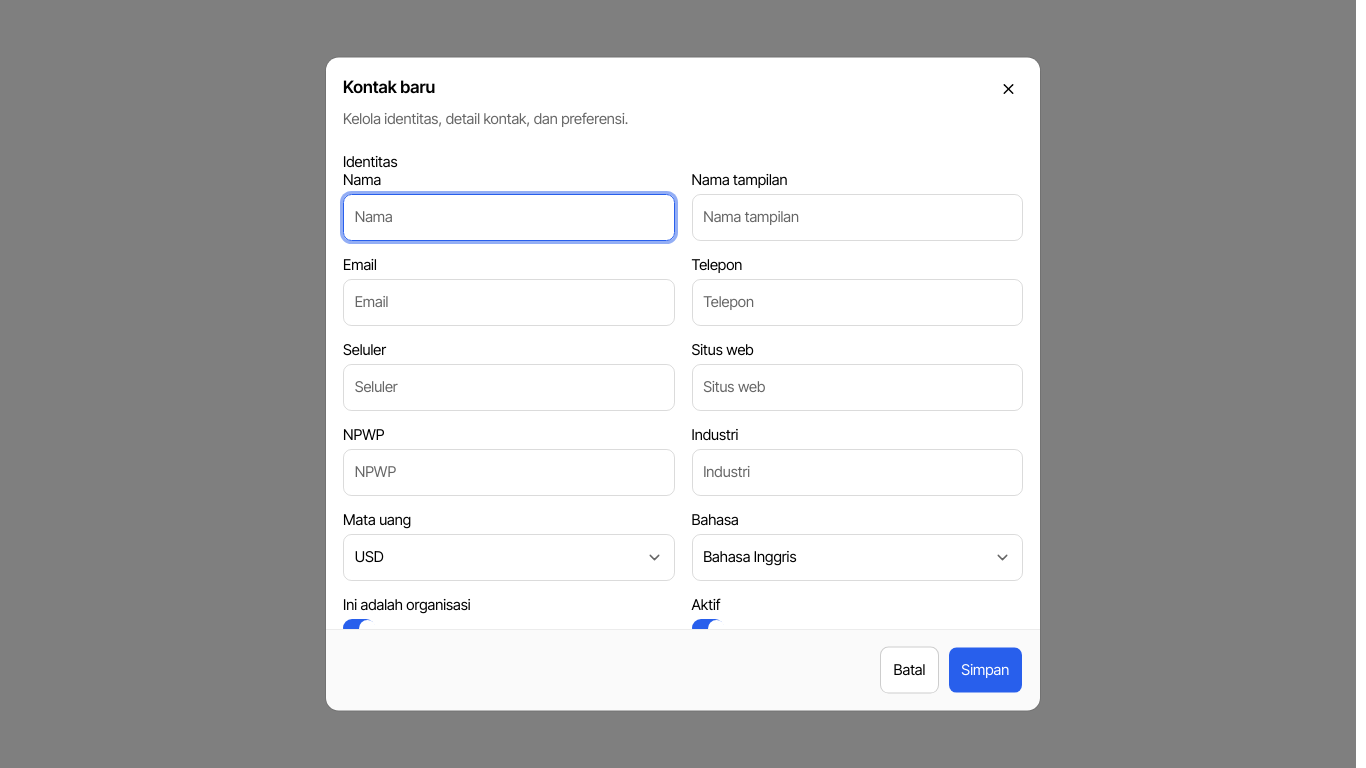
Test: ContactFormDialog branches › blocks submit with an invalid email
Expected: the heading "Kontak baru" is shown, [343,75,435,100]
Type "Acme" into the field with placeholder "Nama" at (509, 217), box [343,194,674,240]
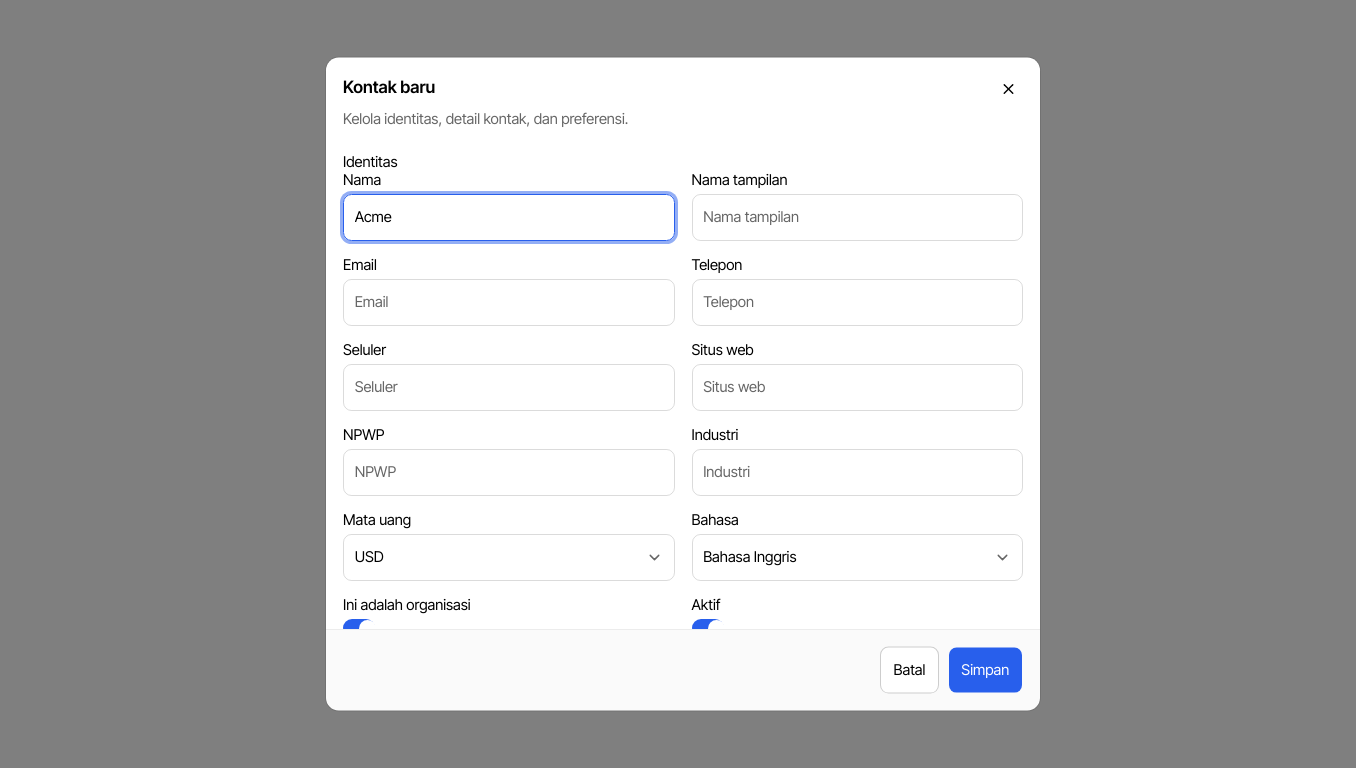
Type "not-an-email" into the field with placeholder "Email" at (509, 302), box [343,279,674,325]
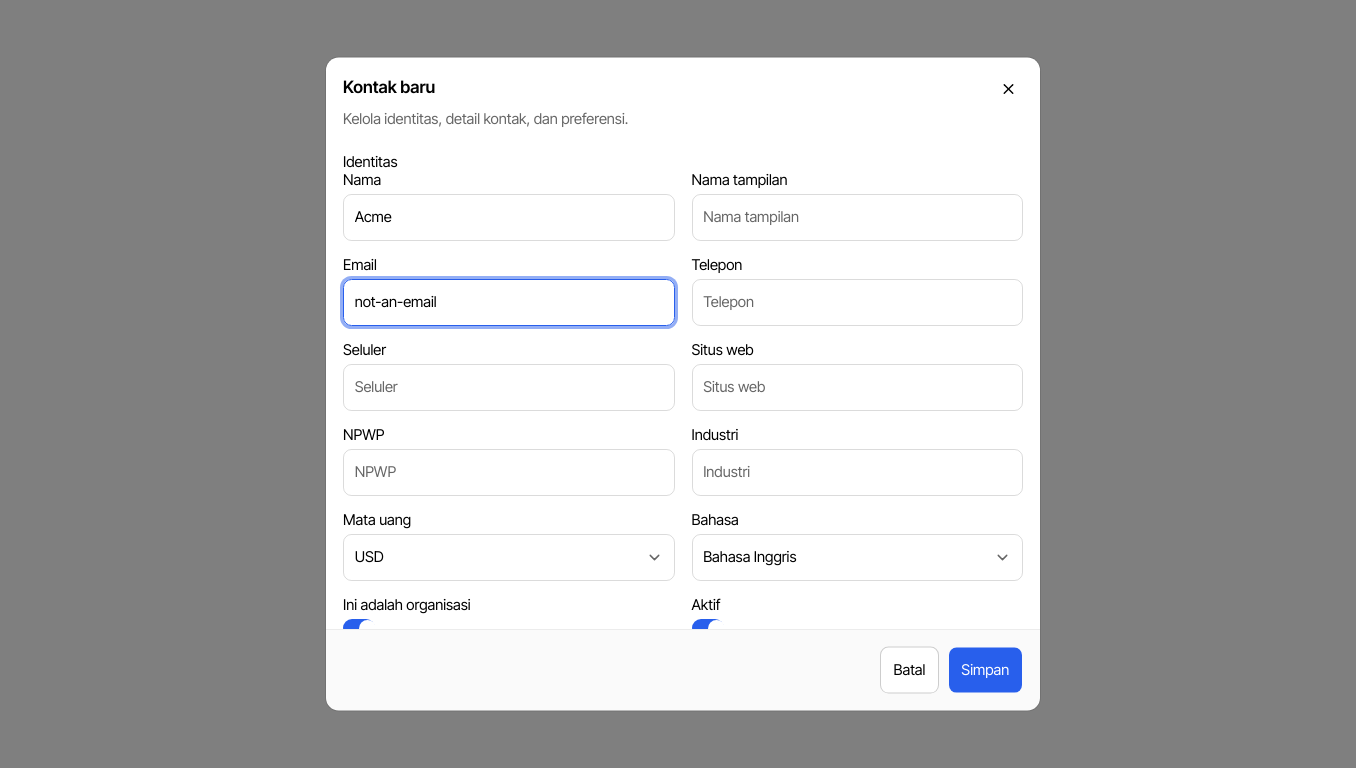
Click the button "Simpan" at (985, 670), box [948,647,1023,693]
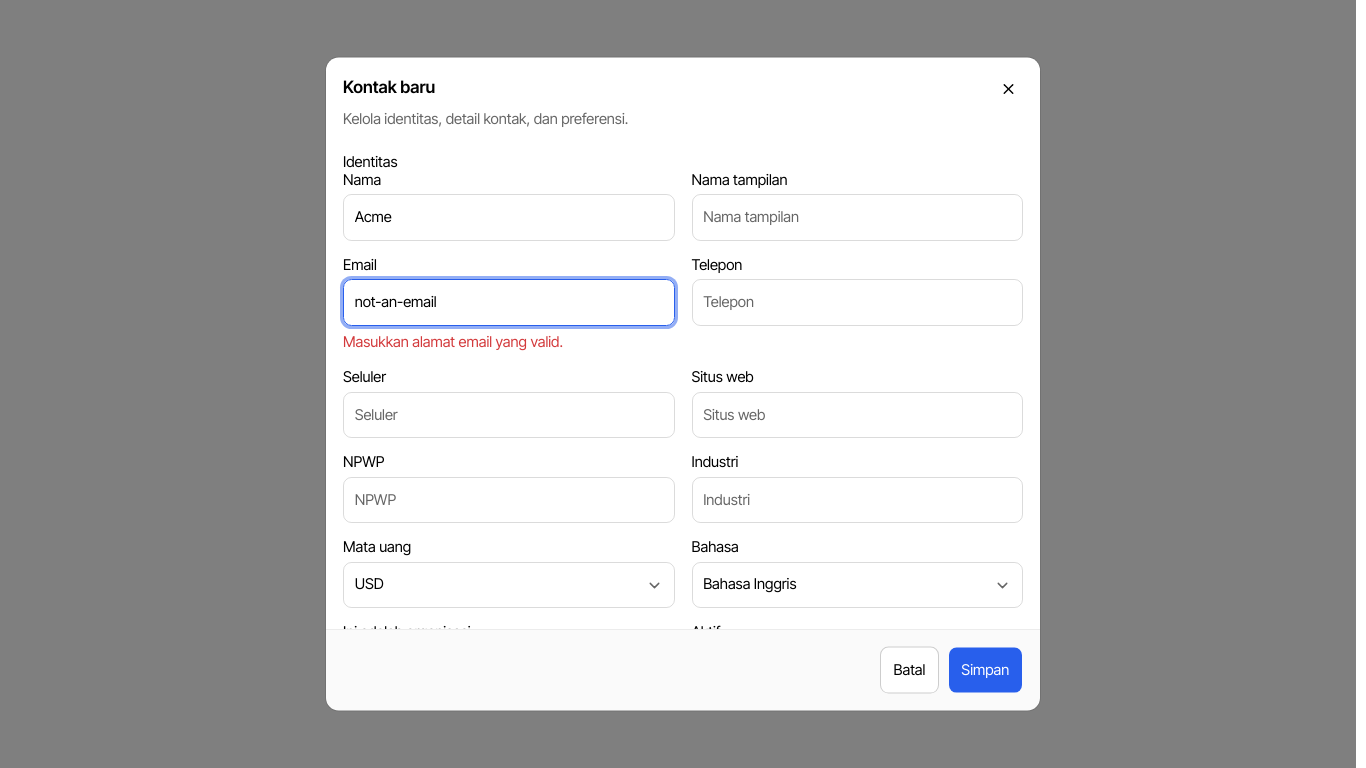
Expected: the text "Masukkan alamat email yang valid." is shown, [343,333,563,351]
